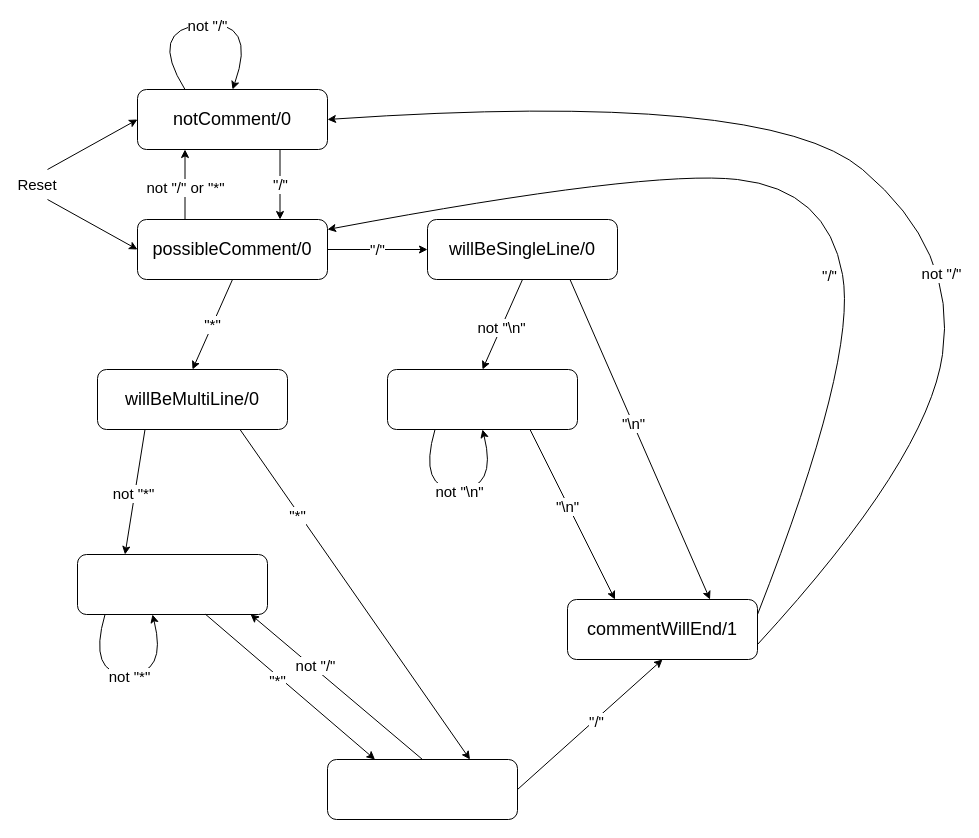
The diagram is 979 pixels wide and 838 high, and some of its shapes have lost their labels. Each missing label, with the centre of its shape:
isMultiLine/1: pixel 172 584
isSingleLine/1: pixel 482 399
multiLineMayEnd/1: pixel 422 789
